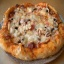pizza: (4, 5, 63, 60)
